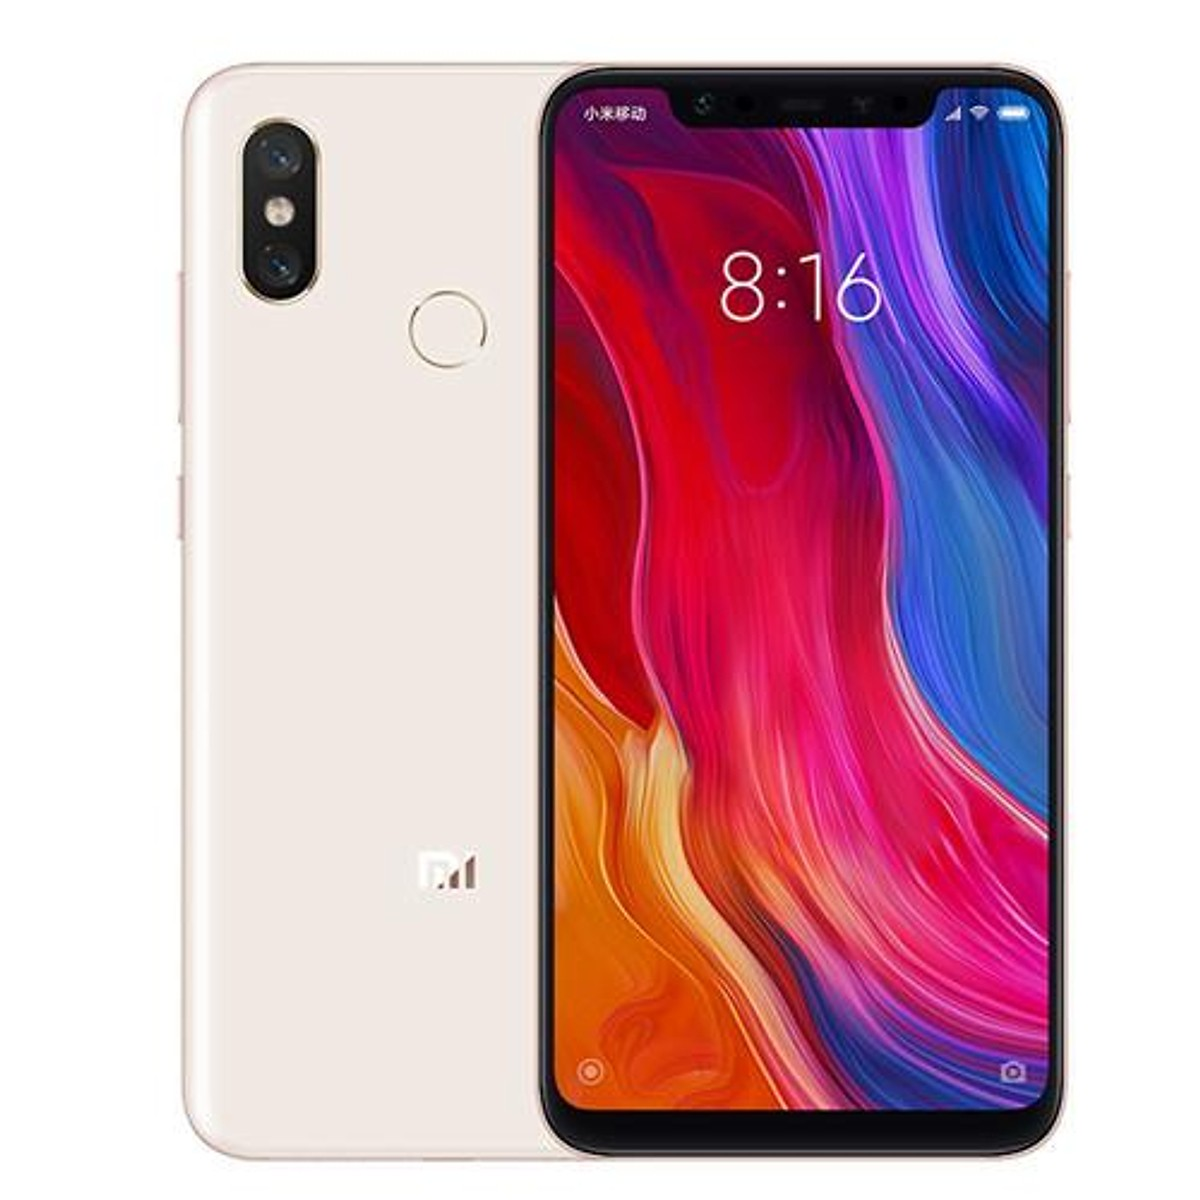Xiaomi: (369, 803, 537, 975)
